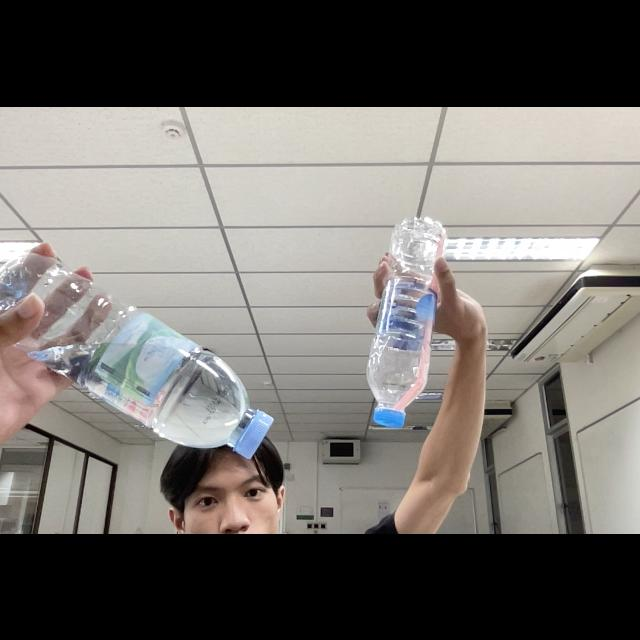plastic_bottle: (1, 232, 270, 466), (355, 214, 465, 426)
plastic_bottle_cap: (232, 407, 274, 459), (374, 404, 406, 428)
